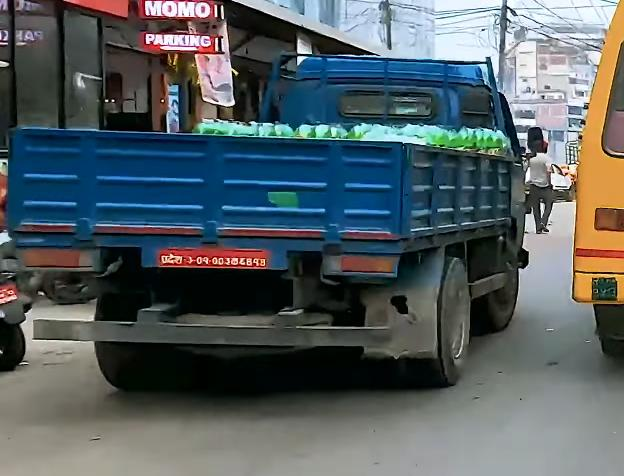mini_truck: (11, 50, 536, 394)
